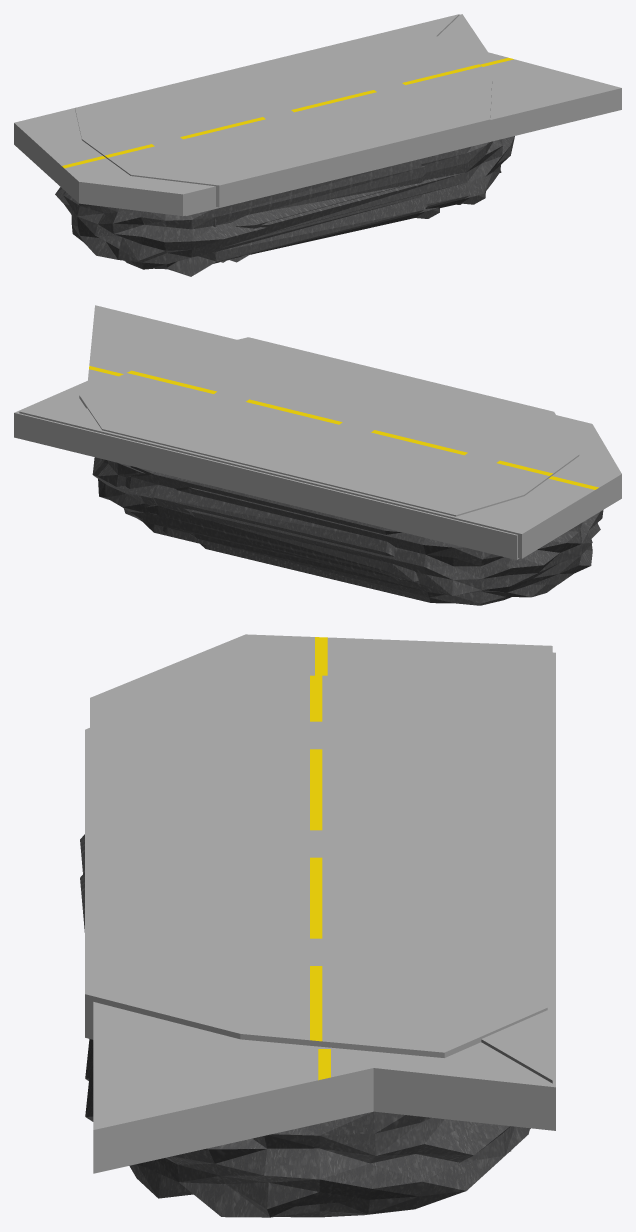
Rendered from RoadSections.glb.
The picture shows the model from 3 angles, top to bottom: view 1: azimuth 30°, elevation 25°; view 2: azimuth 150°, elevation 25°; view 3: azimuth 270°, elevation 25°; orthographic projection. The views are drawn at different scales.
Visible parts, largest first — view 1: Road1, Road2Dirt, Road2, Road3, Road3Dirt, Road1Dirt; view 2: Road1, Road3, Road2Dirt, Road1Dirt, Road2, Road3Dirt; view 3: Road1, Road3, Road3Dirt, Road2.
Boxes of the visible parts, x1,y1,x2,y2 form: Road1: [75, 31, 492, 207]; Road2Dirt: [55, 159, 439, 276]; Road2: [14, 14, 459, 216]; Road3: [185, 14, 621, 215]; Road3Dirt: [229, 136, 514, 262]; Road1Dirt: [220, 179, 461, 262]; Road1: [79, 337, 579, 516]; Road3: [14, 305, 519, 559]; Road2Dirt: [175, 487, 603, 605]; Road1Dirt: [125, 466, 418, 587]; Road2: [19, 408, 621, 558]; Road3Dirt: [92, 457, 401, 585]; Road1: [85, 675, 547, 1057]; Road3: [93, 652, 555, 1173]; Road3Dirt: [80, 872, 530, 1217]; Road2: [90, 634, 552, 1083].
Size of the model in its own units: 18.64 by 3.49 by 7.61.
Materials: 3 (1 with a texture image).
